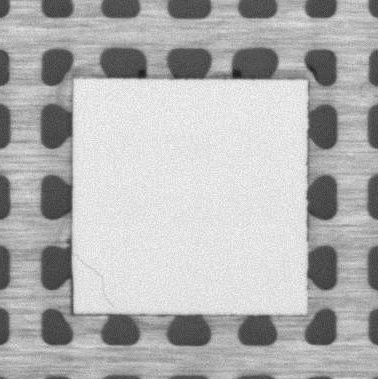DIE_CRACK: (75, 251, 116, 310)
